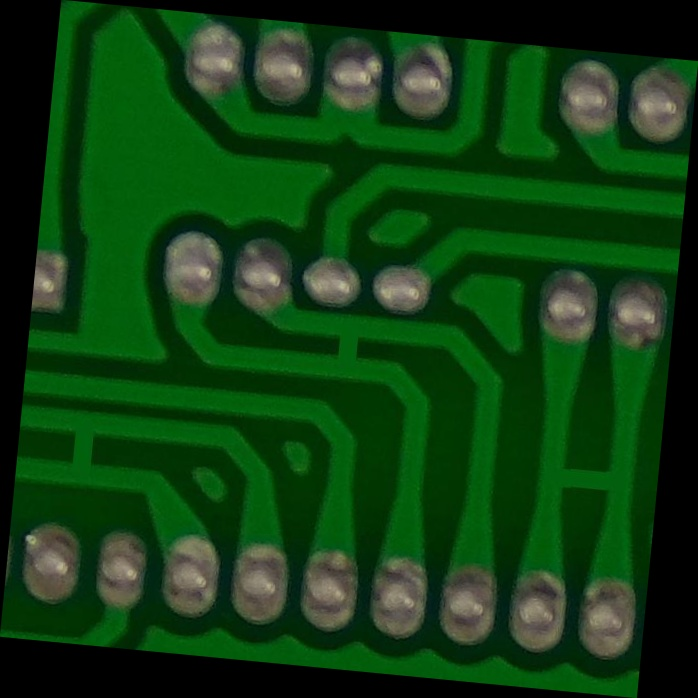short: (300, 300, 398, 398)
